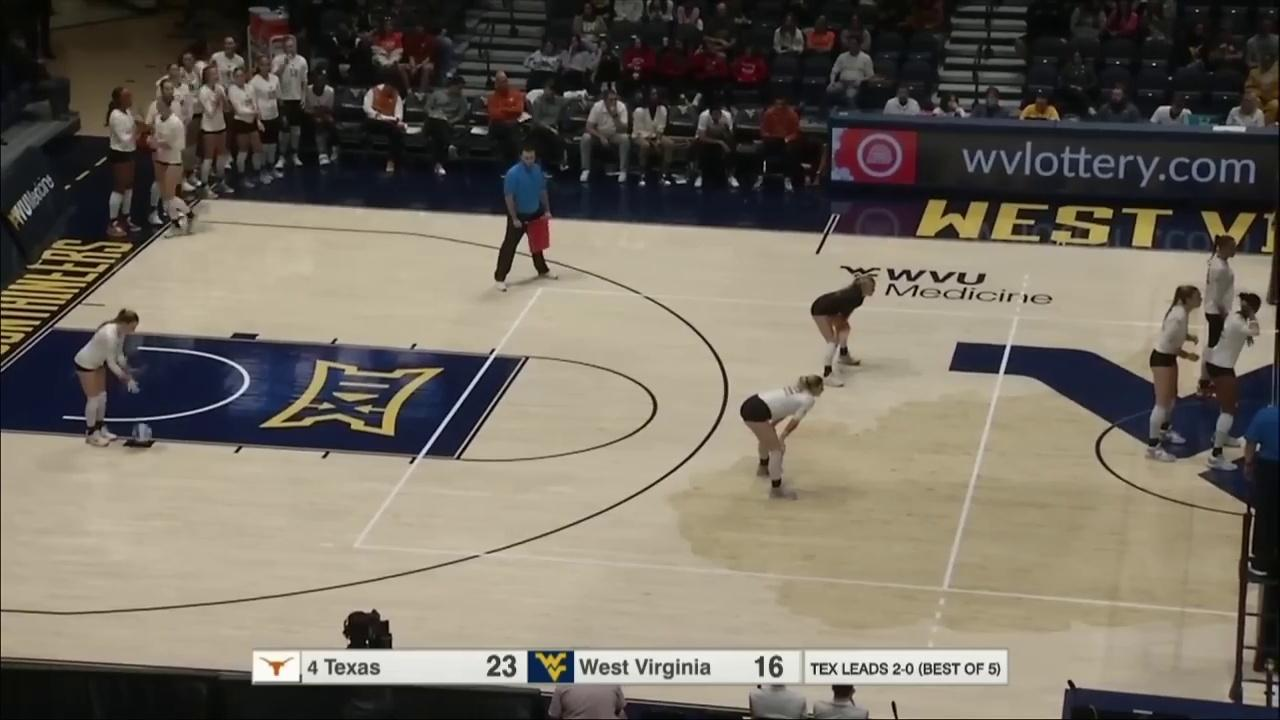player: (737, 371, 823, 500), (1145, 283, 1203, 461), (1204, 292, 1261, 472), (72, 309, 142, 449), (1199, 231, 1247, 404), (809, 272, 877, 391)
refree: (493, 147, 559, 286)
